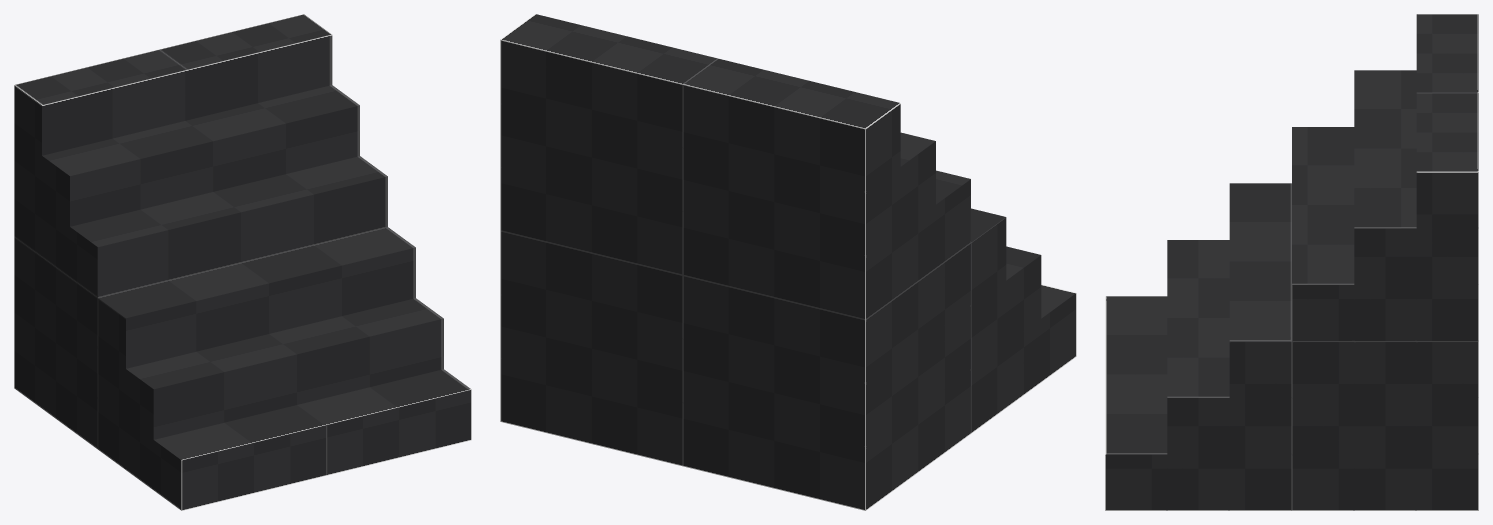
Rendered from Prototype Map - R1 - Stairs7.glb.
3 views of the same model, side by side, from view 1: azimuth 30°, elevation 25°; view 2: azimuth 150°, elevation 25°; view 3: azimuth 270°, elevation 25° (orthographic). The views are drawn at different scales.
Parts seen in each view (by area): view 1: Stairs7.LG; view 2: Stairs7.LG; view 3: Stairs7.LG.
Part boxes in pixels (x1,y1,x2,y2): Stairs7.LG: (14, 14, 471, 510); Stairs7.LG: (500, 14, 1076, 510); Stairs7.LG: (1105, 14, 1478, 510).
Bounding box in the file's own units: 2 × 2 × 2.
1 material, 1 textured.
